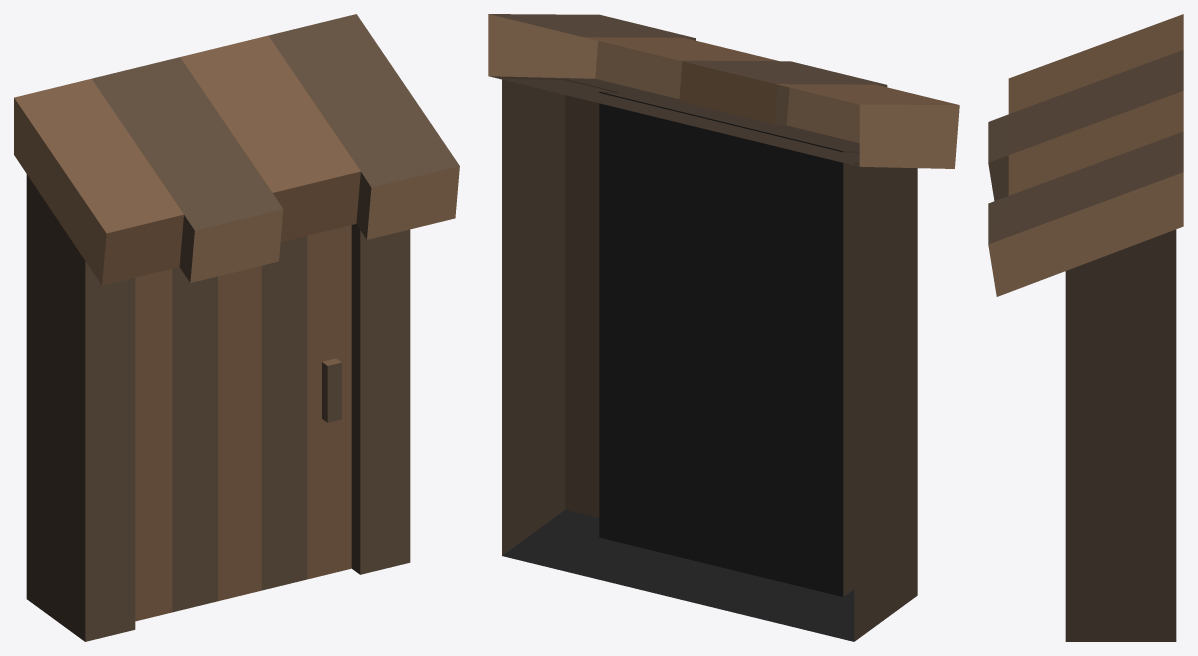
The model's file is TB_D_Bd_Roof_DoorSet_A.FBX.
The picture shows the model from 3 angles, left to right: view 1: azimuth 30°, elevation 25°; view 2: azimuth 150°, elevation 25°; view 3: azimuth 270°, elevation 25°; orthographic projection. The views are drawn at different scales.
Visible parts, largest first — view 1: TB_D_Bd_Roof_DoorSet_A, TB_D_Bd_Roof_Door_A; view 2: TB_D_Bd_Roof_DoorSet_A; view 3: TB_D_Bd_Roof_DoorSet_A.
Part boxes in pixels (left/top/right/bottom): TB_D_Bd_Roof_DoorSet_A: left=14, top=14, right=459, bottom=641; TB_D_Bd_Roof_Door_A: left=135, top=225, right=351, bottom=621; TB_D_Bd_Roof_DoorSet_A: left=488, top=14, right=959, bottom=641; TB_D_Bd_Roof_DoorSet_A: left=988, top=14, right=1183, bottom=641.
Size of the model in its own units: 1.37 by 1.91 by 0.7153.
